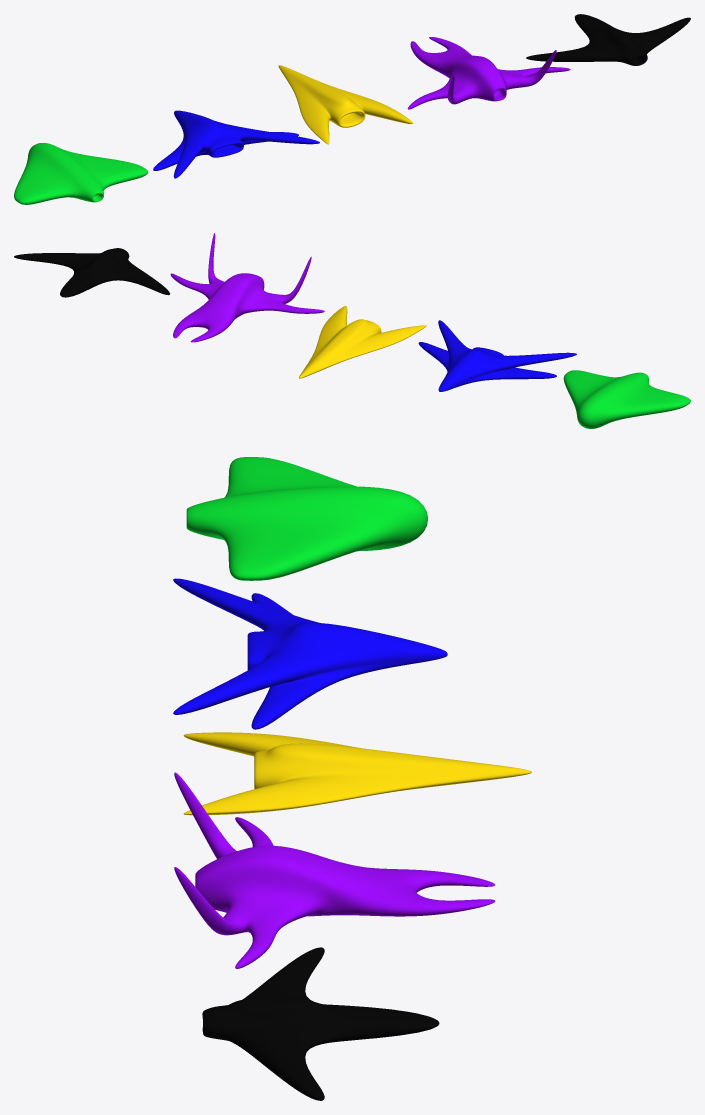
The model's file is Base ships.fbx.
3 views of the same model, one above another, from view 1: azimuth 30°, elevation 25°; view 2: azimuth 150°, elevation 25°; view 3: azimuth 270°, elevation 25° (orthographic). The views are drawn at different scales.
Parts seen in each view (by area): view 1: Gluon, Tau, Photon, Electron, Quark; view 2: Tau, Gluon, Electron, Photon, Quark; view 3: Tau, Gluon, Electron, Photon, Quark.
Boxes of the visible parts, x1,y1,x2,y2 form: Gluon: (14, 143, 147, 204); Tau: (407, 37, 570, 109); Photon: (278, 65, 413, 144); Electron: (153, 110, 319, 178); Quark: (526, 14, 690, 65); Tau: (170, 233, 324, 342); Gluon: (563, 370, 690, 428); Electron: (418, 320, 576, 391); Photon: (299, 306, 426, 378); Quark: (14, 248, 169, 297); Tau: (174, 772, 494, 968); Gluon: (186, 457, 427, 580); Electron: (173, 578, 447, 729); Photon: (183, 732, 531, 815); Quark: (202, 947, 439, 1100).
Size of the model in its own units: 4457 by 331 by 1055.
